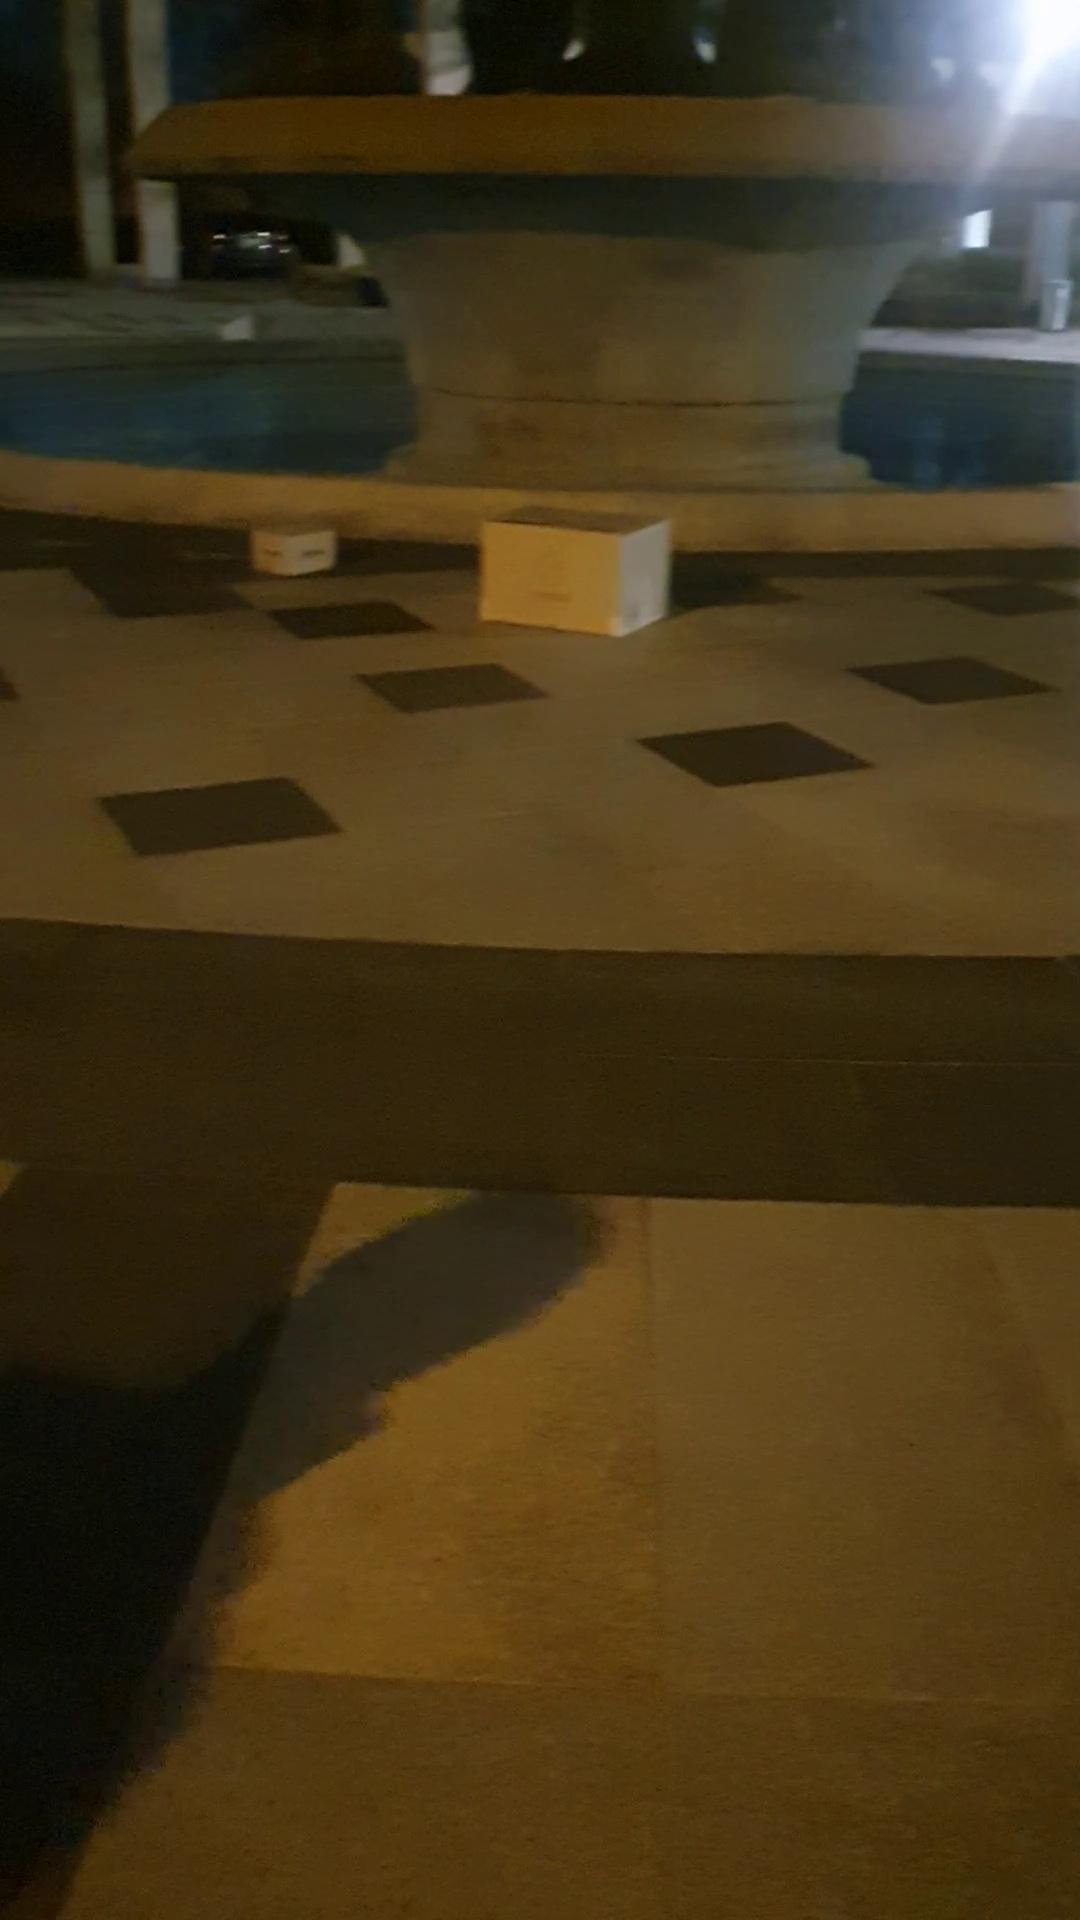Box: (471, 498, 675, 650), (237, 510, 349, 585)
